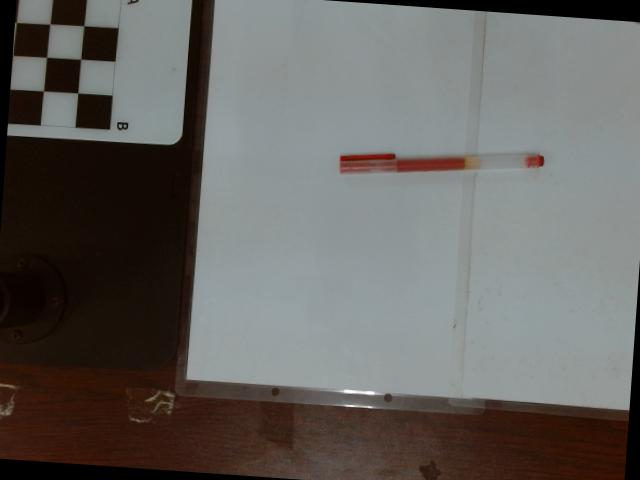PEN: (338, 148, 544, 174)
